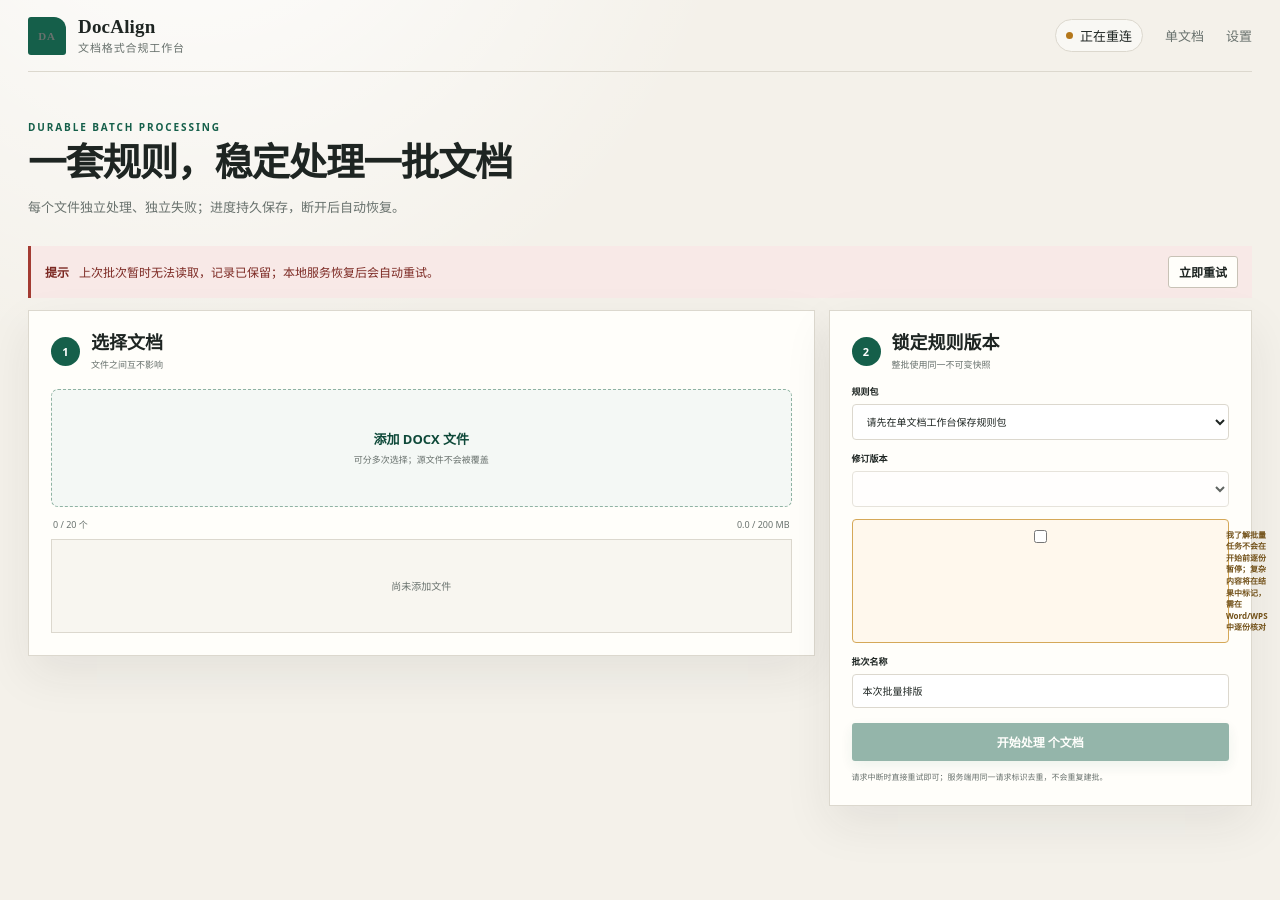
Test: BatchWorkspace › preserves and manually retries a batch after a transport interruption
The width and height of the screenshot is (1280, 900).
Expected: the text "提示 上次批次暂时无法读取，记录已保留；本地服务恢复后会自动重试。 立即重试" is shown, [28, 246, 1252, 298]
Click the button "立即重试" at (1203, 272), box [1168, 256, 1238, 288]
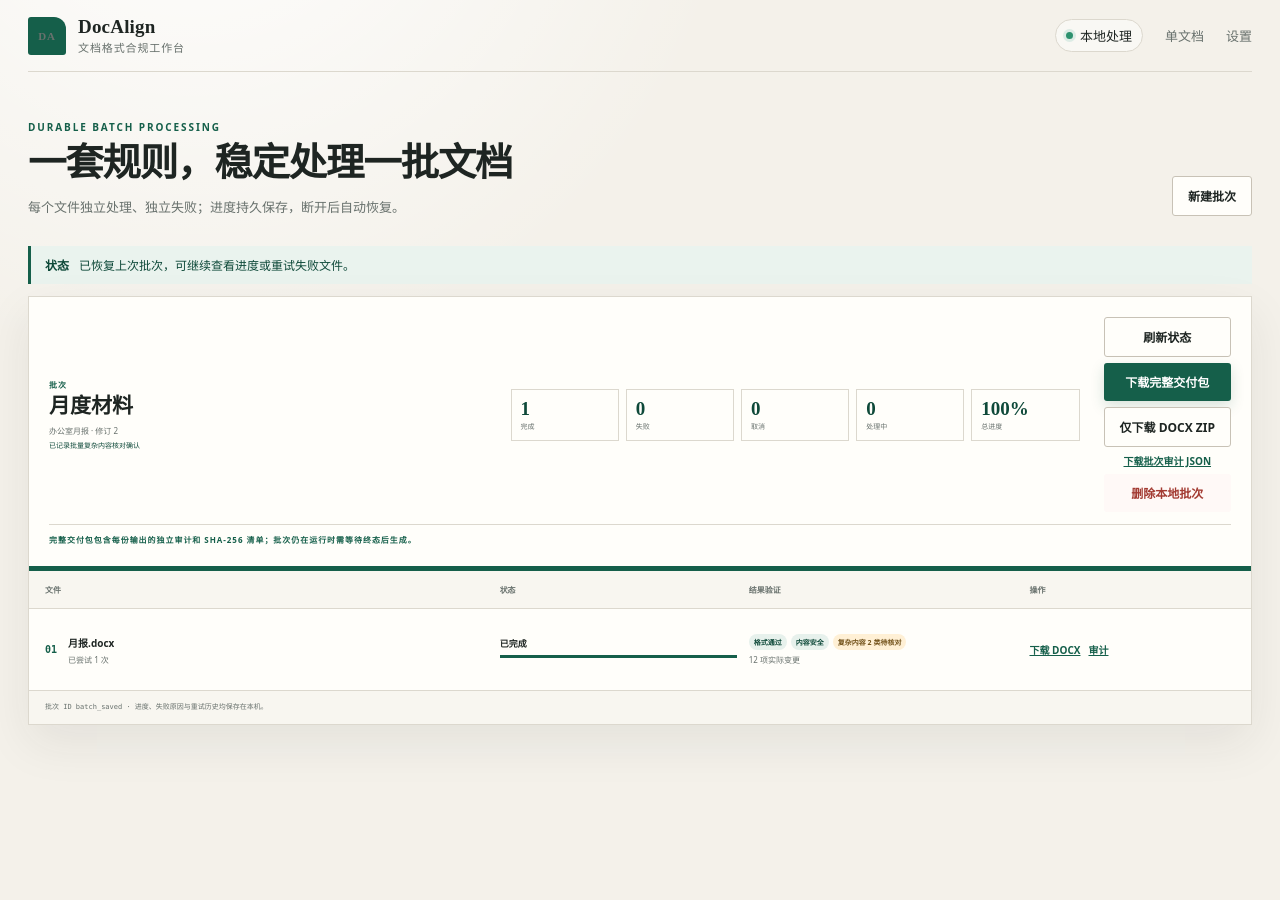
Now the heading "月度材料" is shown, box [49, 394, 133, 418]
Now the text "状态 已恢复上次批次，可继续查看进度或重试失败文件。" is shown, box [28, 246, 1252, 284]
